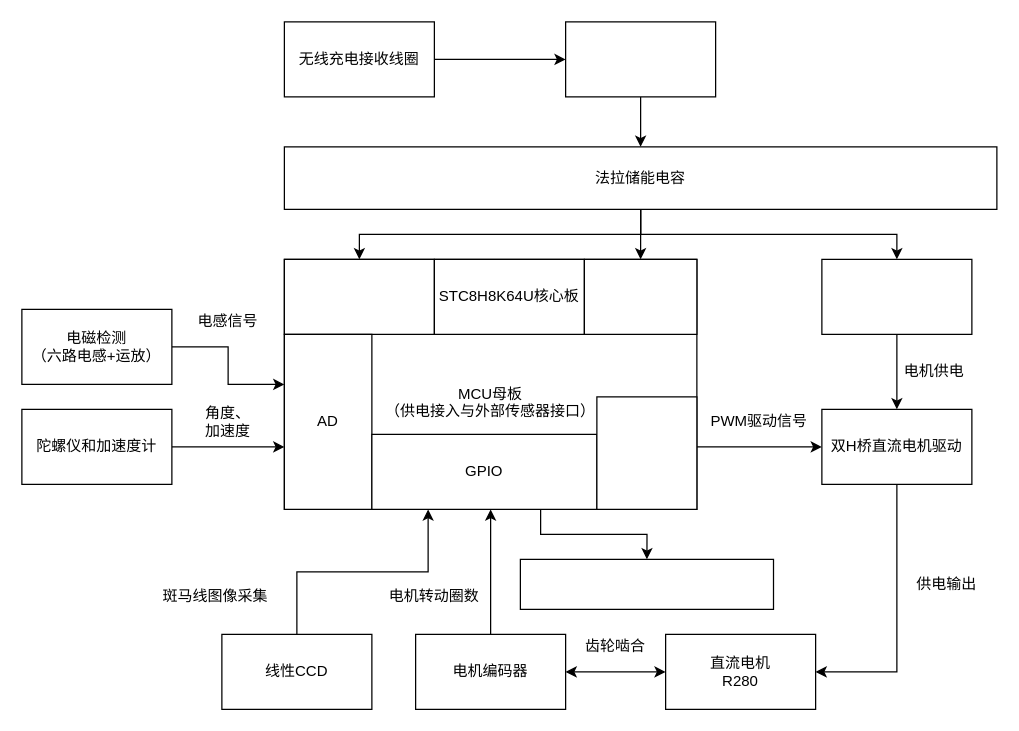
Image size: 1019x731. Some labels were removed from this diagram. The centre of each missing label's shape, as x and y in pixels:
5V稳压供电 TPS63070/630701: the point at 358,296
9.6V稳压供电 TPS61088: the point at 896,296
AD （电容电压）: the point at 640,296
PWM发生器: the point at 646,452
人机交互 （拨码、复位按钮、蜂鸣器、LED）: the point at 646,583
整流滤波电路: the point at 640,59
